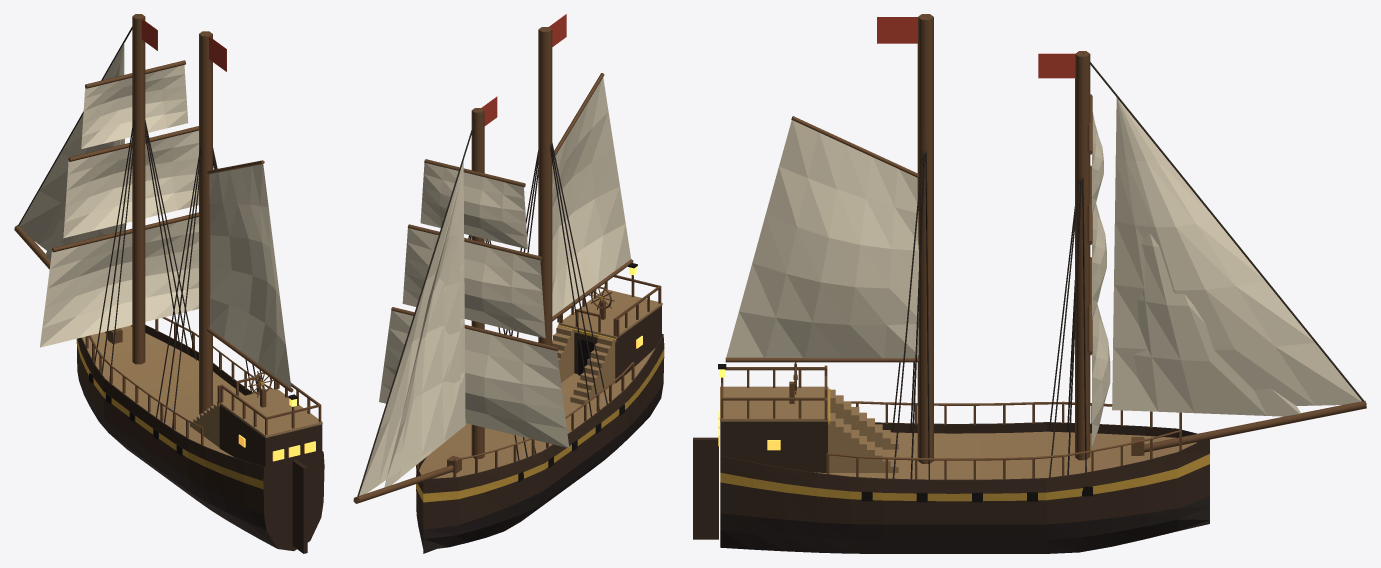
Rendered from sawyer_ship_brigantine_set.glb.
The picture shows the model from 3 angles, left to right: view 1: azimuth 30°, elevation 25°; view 2: azimuth 150°, elevation 25°; view 3: azimuth 270°, elevation 25°; orthographic projection. The views are drawn at different scales.
Parts seen in each view (by area): view 1: hull, sail_sq0_0, sail_main1, sail_sq0_1, sail_sq0_2, mast0, mast1, sail_jib0, cabin_walls, cabin_roof, rudder, sail_jib1 (+15 smaller); view 2: hull, sail_main1, sail_jib0, sail_sq0_0, sail_sq0_1, sail_sq0_2, sail_jib1, mast1, cabin_roof, cabin_walls, mast0, forestay (+9 smaller); view 3: hull, sail_main1, sail_jib0, sail_jib1, mast1, mast0, cabin_walls, cabin_roof, rudder, bowsprit, sail_sq0_0, sail_sq0_1 (+4 smaller).
Part boxes in pixels (left/top/right/bottom): hull: left=76, top=325, right=324, bottom=551; sail_sq0_0: left=40, top=217, right=198, bottom=347; sail_main1: left=209, top=164, right=291, bottom=387; sail_sq0_1: left=63, top=130, right=198, bottom=238; sail_sq0_2: left=81, top=65, right=188, bottom=148; mast0: left=132, top=14, right=145, bottom=364; mast1: left=199, top=31, right=212, bottom=414; sail_jib0: left=19, top=43, right=124, bottom=253; cabin_walls: left=219, top=405, right=322, bottom=481; cabin_roof: left=219, top=388, right=322, bottom=437; rudder: left=292, top=459, right=307, bottom=553; sail_jib1: left=45, top=64, right=121, bottom=261; hull: left=416, top=334, right=664, bottom=553; sail_main1: left=552, top=77, right=630, bottom=316; sail_jib0: left=359, top=161, right=465, bottom=495; sail_sq0_0: left=379, top=310, right=569, bottom=448; sail_sq0_1: left=402, top=228, right=545, bottom=338; sail_sq0_2: left=420, top=163, right=527, bottom=249; sail_jib1: left=384, top=185, right=461, bottom=487; mast1: left=538, top=27, right=552, bottom=345; cabin_roof: left=558, top=289, right=662, bottom=338; cabin_walls: left=574, top=306, right=661, bottom=383; mast0: left=471, top=108, right=484, bottom=458; forestay: left=356, top=110, right=478, bottom=500; hull: left=720, top=422, right=1209, bottom=553; sail_main1: left=726, top=120, right=918, bottom=358; sail_jib0: left=1112, top=97, right=1361, bottom=410; sail_jib1: left=1122, top=233, right=1300, bottom=416; mast1: left=917, top=14, right=933, bottom=463; mast0: left=1075, top=51, right=1090, bottom=460; cabin_walls: left=720, top=421, right=827, bottom=472; cabin_roof: left=720, top=386, right=828, bottom=421; rudder: left=693, top=437, right=718, bottom=539; bowsprit: left=1144, top=400, right=1366, bottom=452; sail_sq0_0: left=1092, top=304, right=1110, bottom=448; sail_sq0_1: left=1092, top=203, right=1106, bottom=319.
Size of the model in its own units: 11.5 by 26.2 by 30.26.
